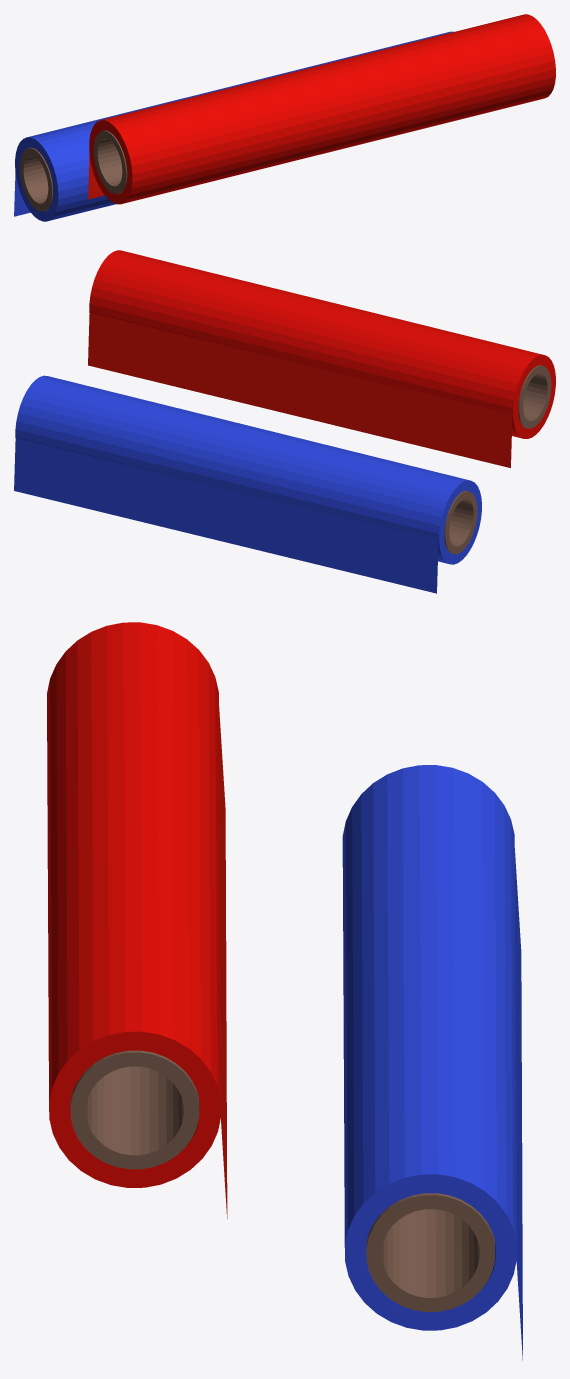
The model's file is bobinas.gltf.
3 renders of one model, top to bottom at view 1: azimuth 30°, elevation 25°; view 2: azimuth 150°, elevation 25°; view 3: azimuth 270°, elevation 25°, orthographic. The views are drawn at different scales.
Visible parts, largest first — view 1: Cilindro.002, Cilindro.001, Cilindro, Cilindro.003, Plano.001, Plano; view 2: Cilindro.002, Cilindro.001, Plano.001, Plano, Cilindro, Cilindro.003; view 3: Cilindro.001, Cilindro.002, Cilindro.003, Cilindro, Plano, Plano.001.
Boxes of the visible parts, x1=… form: Cilindro.002: x1=89, y1=14, x2=555, y2=204; Cilindro.001: x1=15, y1=31, x2=453, y2=221; Cilindro: x1=19, y1=147, x2=52, y2=211; Cilindro.003: x1=93, y1=130, x2=127, y2=193; Plano.001: x1=88, y1=156, x2=104, y2=199; Plano: x1=14, y1=171, x2=30, y2=216; Cilindro.002: x1=89, y1=250, x2=555, y2=438; Cilindro.001: x1=15, y1=375, x2=481, y2=564; Plano.001: x1=88, y1=312, x2=512, y2=467; Plano: x1=14, y1=438, x2=438, y2=593; Cilindro: x1=444, y1=490, x2=477, y2=554; Cilindro.003: x1=518, y1=365, x2=551, y2=428; Cilindro.001: x1=342, y1=765, x2=516, y2=1330; Cilindro.002: x1=47, y1=622, x2=220, y2=1187; Cilindro.003: x1=70, y1=1050, x2=199, y2=1169; Cilindro: x1=366, y1=1193, x2=494, y2=1311; Plano: x1=514, y1=848, x2=522, y2=1360; Plano.001: x1=219, y1=707, x2=227, y2=1218.
Size of the model in its own units: 15.2 by 5.69 by 7.37.
